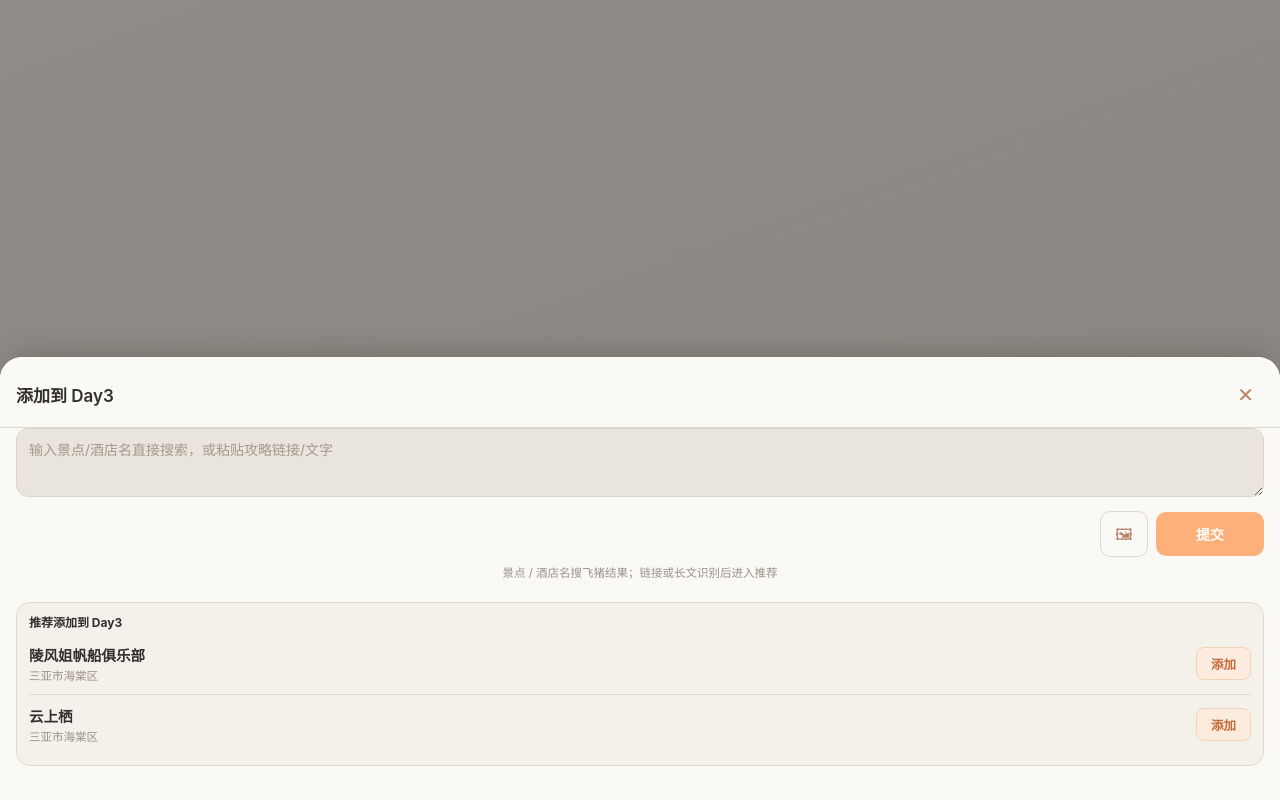
Scenario: day 添加面板（任务 198） › day 面板短文本提交走飞猪搜索：显示结果勾选，候选推荐让位
Type "亚龙湾" into the text box with placeholder "输入景点/酒店名直接搜索，或粘贴攻略链接/文字" at {"x": 640, "y": 462}, box x1=16 y1=428 x2=1264 y2=497
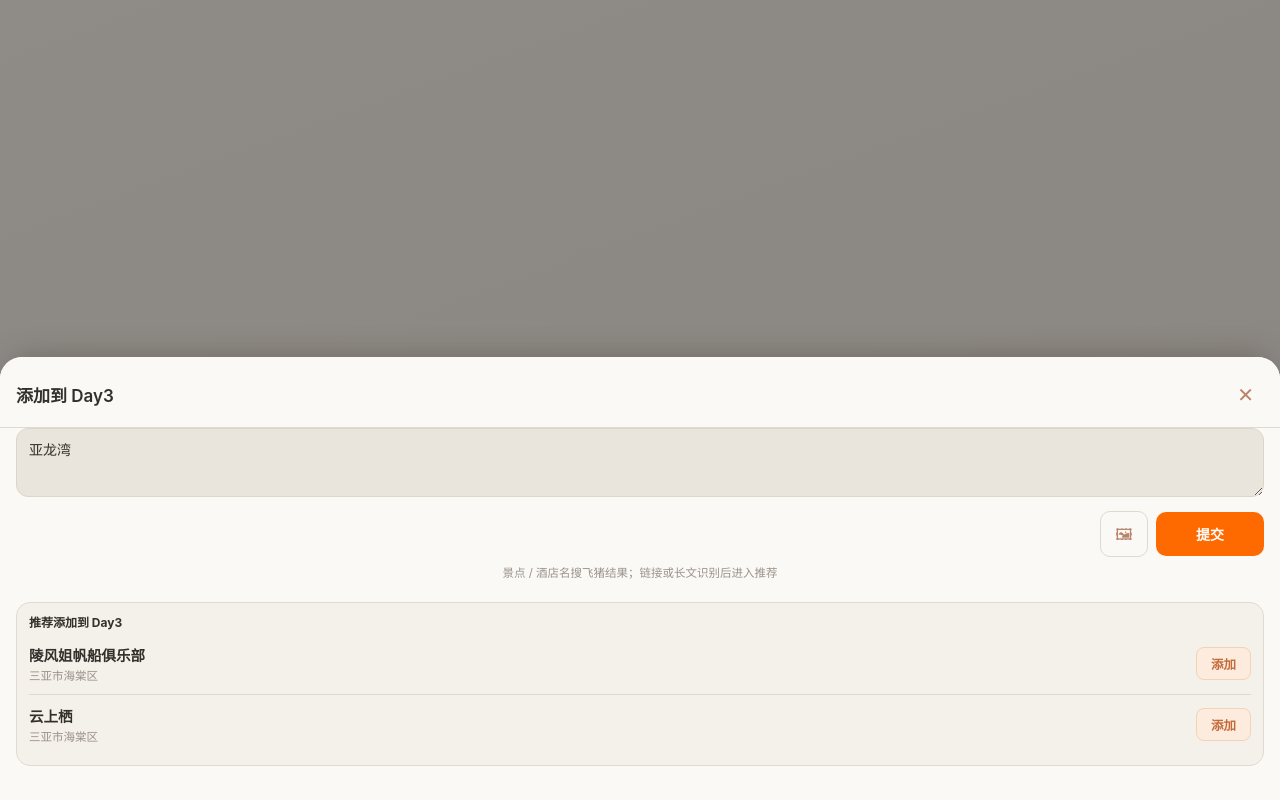
Result: the button "提交" is enabled
Click the button "提交" at {"x": 1210, "y": 534}, box x1=1156 y1=512 x2=1264 y2=556
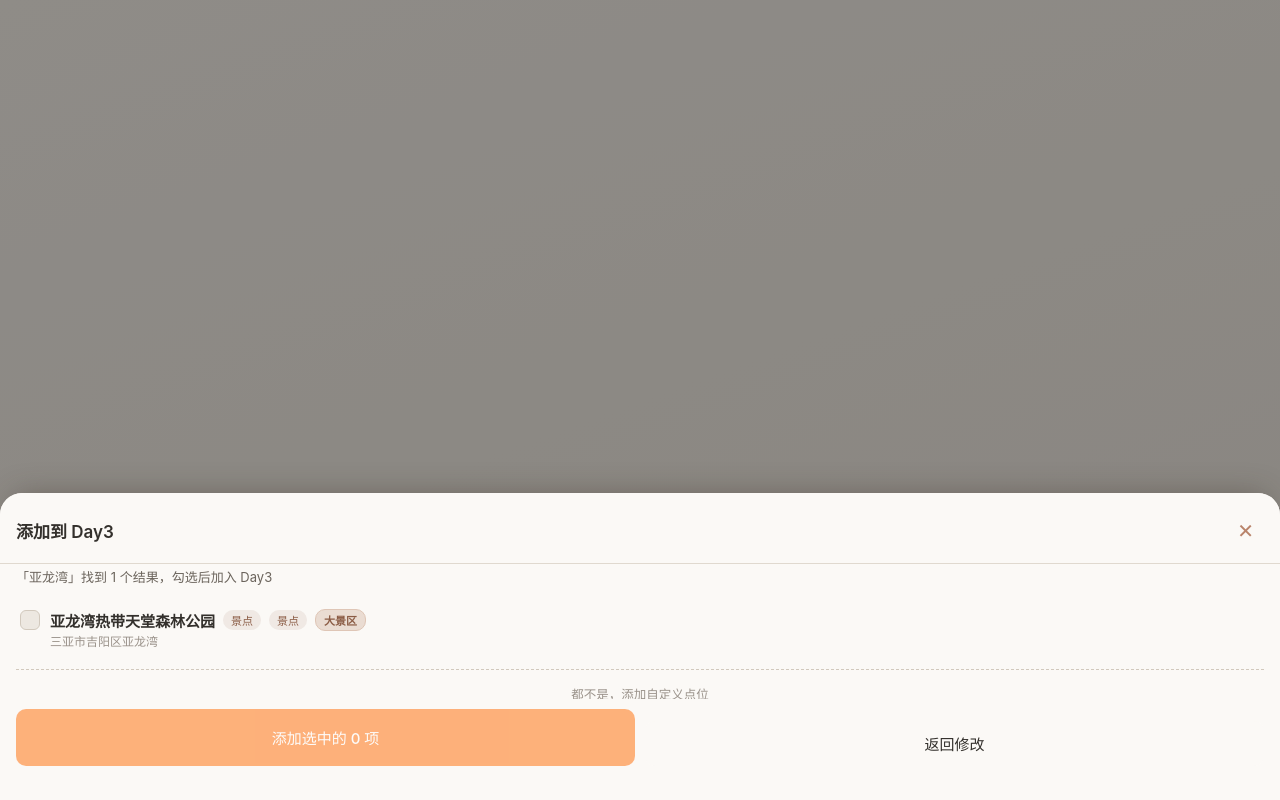
Result: the text "「亚龙湾」找到 1 个结果，勾选后加入 Day3" is shown at x1=16 y1=569 x2=272 y2=585
Result: the checkbox named "景点 亚龙湾热带天堂森林公园" is shown at x1=16 y1=597 x2=1264 y2=663
Result: the text "推荐添加到 Day3" is gone
